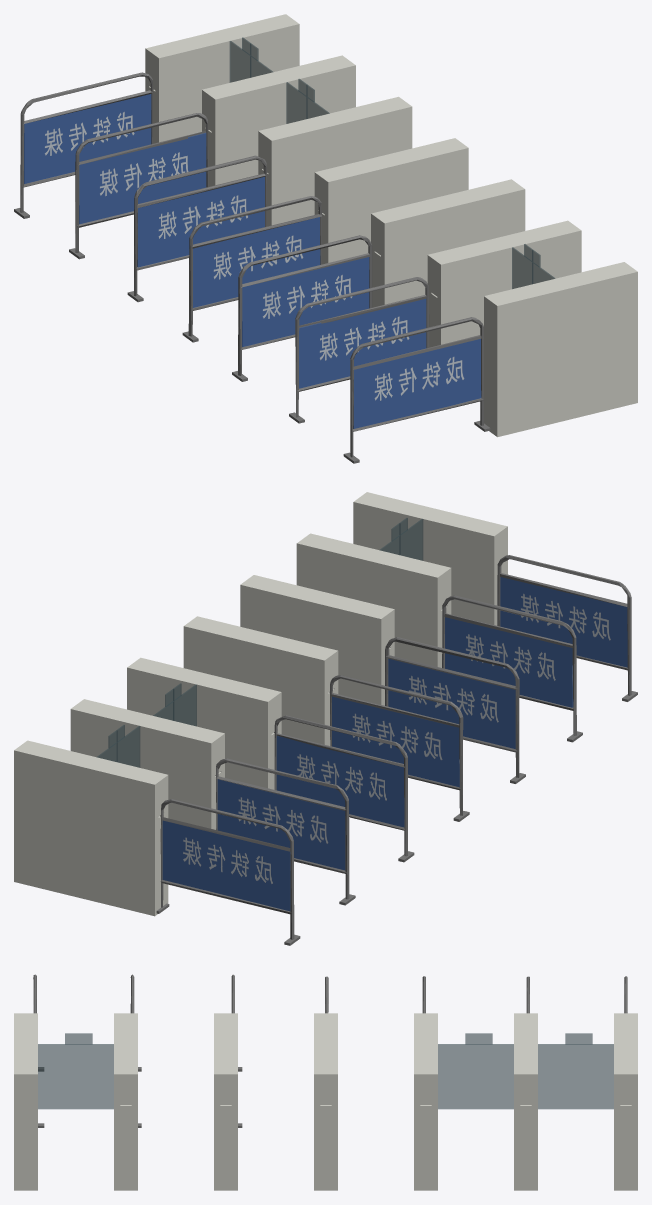
The model's file is 检票机.fbx.
3 views of the same model, one above another, from view 1: azimuth 30°, elevation 25°; view 2: azimuth 150°, elevation 25°; view 3: azimuth 270°, elevation 25° (orthographic). The views are drawn at different scales.
Parts seen in each view (by area): view 1: 网格001, 网格006, 网格002, 网格007; view 2: 网格001, 网格006, 网格002, 网格007; view 3: 网格001, 网格007, 网格002.
Boxes of the visible parts, <box> form: 网格001: <box>145,14,637,437</box>; 网格006: <box>24,94,481,428</box>; 网格002: <box>14,72,490,463</box>; 网格007: <box>229,37,555,288</box>; 网格001: <box>14,492,507,916</box>; 网格006: <box>162,577,627,911</box>; 网格002: <box>156,555,637,945</box>; 网格007: <box>97,518,423,767</box>; 网格001: <box>14,1013,637,1190</box>; 网格007: <box>38,1033,613,1109</box>; 网格002: <box>33,974,627,1127</box>.
Bounding box in the file's own units: 237 × 117 × 521.
